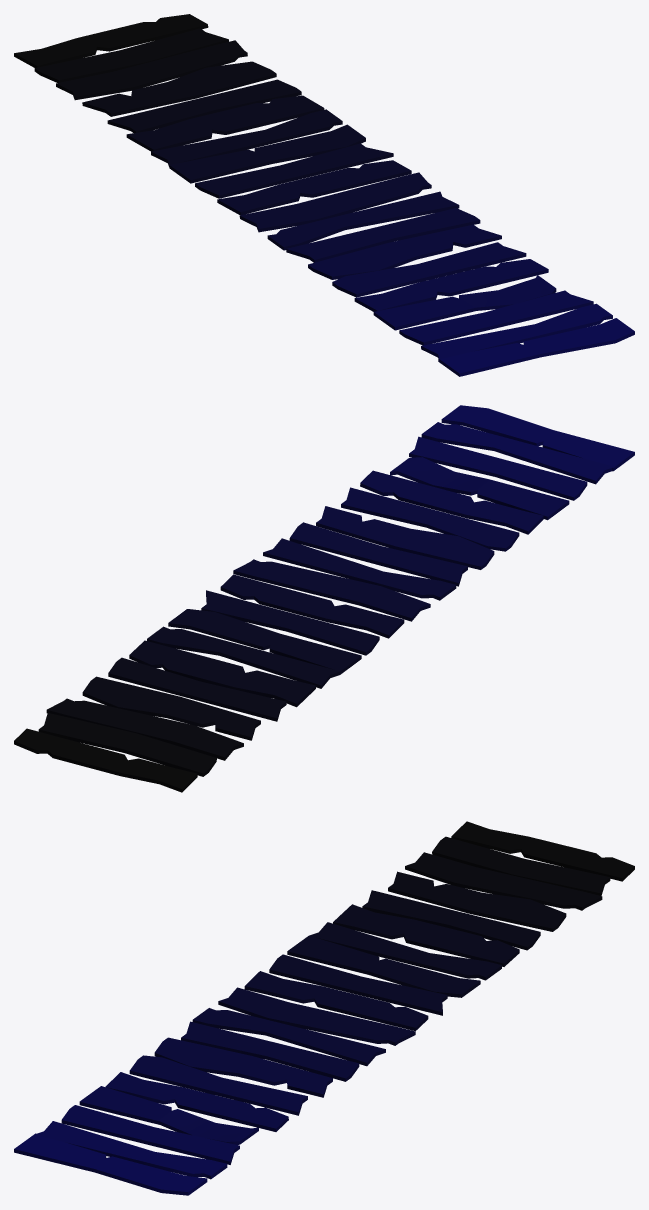
The model's file is bridge_plane.fbx.
3 views of the same model, one above another, from view 1: azimuth 30°, elevation 25°; view 2: azimuth 150°, elevation 25°; view 3: azimuth 330°, elevation 25° (orthographic). The views are drawn at different scales.
Visible parts, largest first — view 1: Output; view 2: Output; view 3: Output.
Boxes of the visible parts, bbox=[...] form: Output: bbox=[14, 14, 634, 376]; Output: bbox=[14, 405, 634, 792]; Output: bbox=[14, 821, 634, 1195].
Bounding box in the file's own units: 8.55 × 0.4513 × 37.44.
